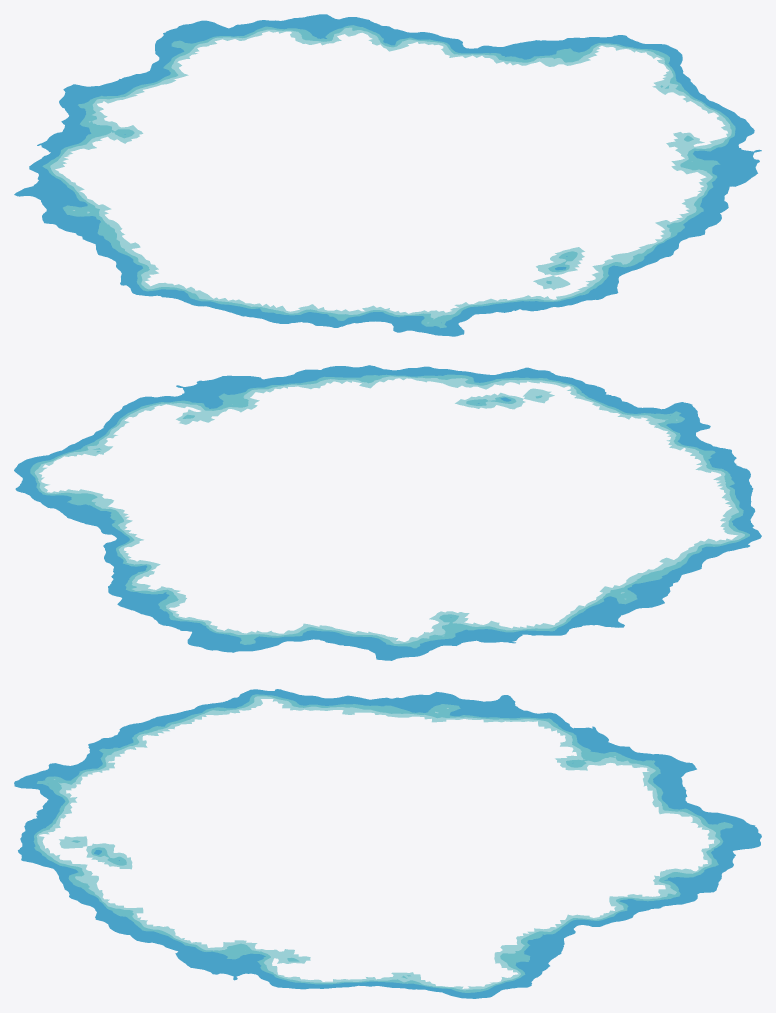
Rendered from Isl-hilly5-Water.fbx.
The picture shows the model from 3 angles, top to bottom: view 1: azimuth 30°, elevation 25°; view 2: azimuth 150°, elevation 25°; view 3: azimuth 270°, elevation 25°; orthographic projection. The views are drawn at different scales.
Visible parts, largest first — view 1: Isl-hilly5-Water; view 2: Isl-hilly5-Water; view 3: Isl-hilly5-Water.
Boxes of the visible parts, x1,y1,x2,y2 form: Isl-hilly5-Water: (14,14,761,336); Isl-hilly5-Water: (14,365,761,660); Isl-hilly5-Water: (14,689,761,998).
Bounding box in the file's own units: 135 × 0 × 137.
